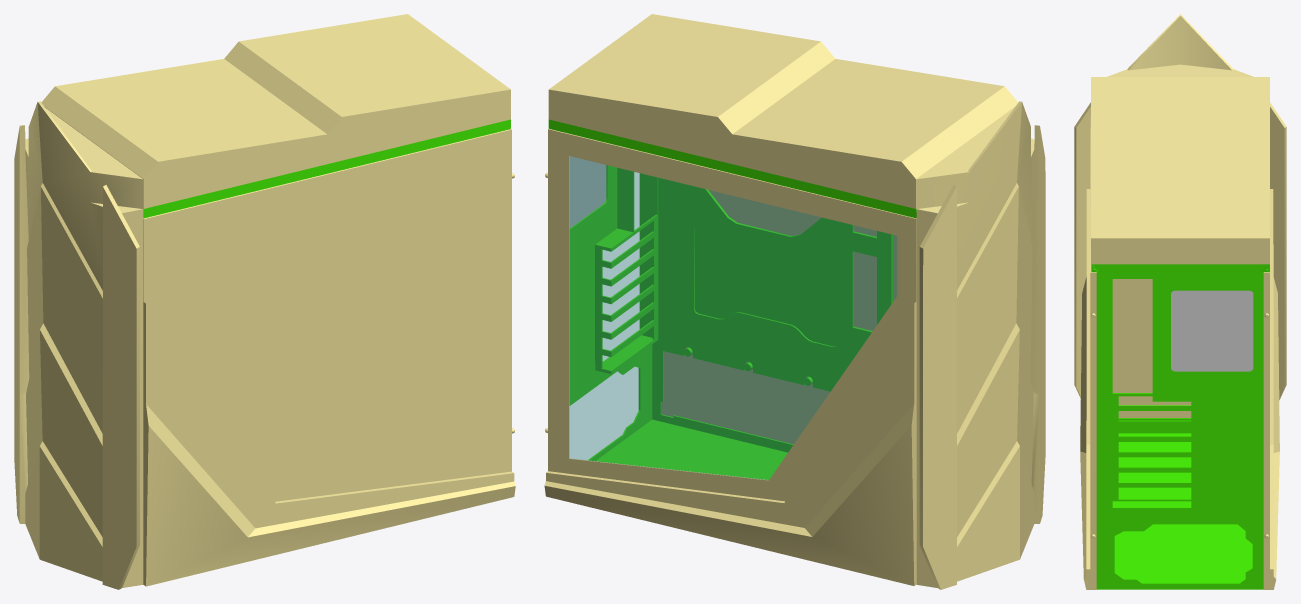
The model's file is pc_case_k_cover.fbx.
The picture shows the model from 3 angles, left to right: view 1: azimuth 30°, elevation 25°; view 2: azimuth 150°, elevation 25°; view 3: azimuth 270°, elevation 25°; orthographic projection. The views are drawn at different scales.
Visible parts, largest first — view 1: pc_case_k_cover, pc_case_k_body; view 2: pc_case_k_cover_door, pc_case_k_cover, pc_case_k_body, pc_case_k_wire; view 3: pc_case_k_cover, pc_case_k_body, pc_case_k_wire, pc_case_k_cover_door.
Part boxes in pixels (x1,y1,x2,y2): pc_case_k_cover: (14, 14, 515, 589); pc_case_k_body: (143, 119, 510, 218); pc_case_k_cover_door: (544, 129, 916, 585); pc_case_k_cover: (548, 14, 1045, 589); pc_case_k_body: (548, 119, 916, 479); pc_case_k_wire: (569, 156, 606, 227); pc_case_k_cover: (1074, 14, 1286, 589); pc_case_k_body: (1091, 264, 1269, 589); pc_case_k_wire: (1171, 290, 1253, 371); pc_case_k_cover_door: (1263, 189, 1279, 589).
Bounding box in the file's own units: 52.25 × 53.71 × 26.
